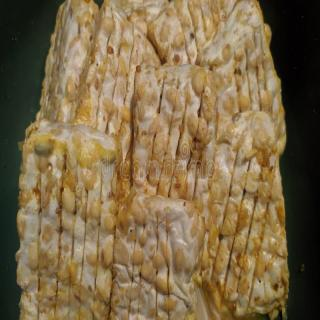Tempe: (16, 118, 121, 320), (201, 111, 291, 320), (110, 189, 207, 320), (132, 63, 219, 201)
